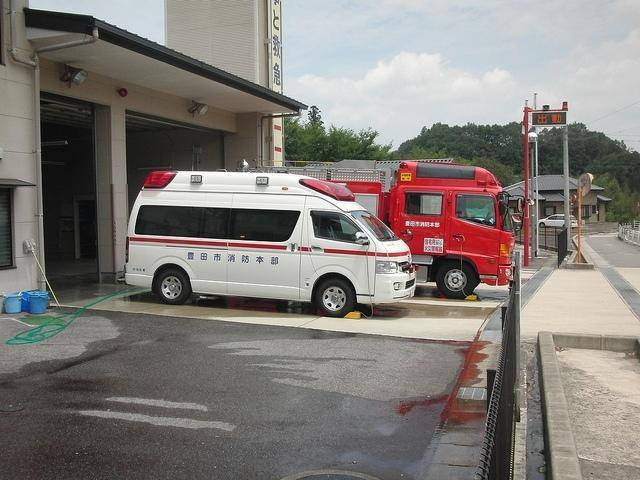car: (539, 214, 578, 228)
truck: (252, 159, 526, 301)
